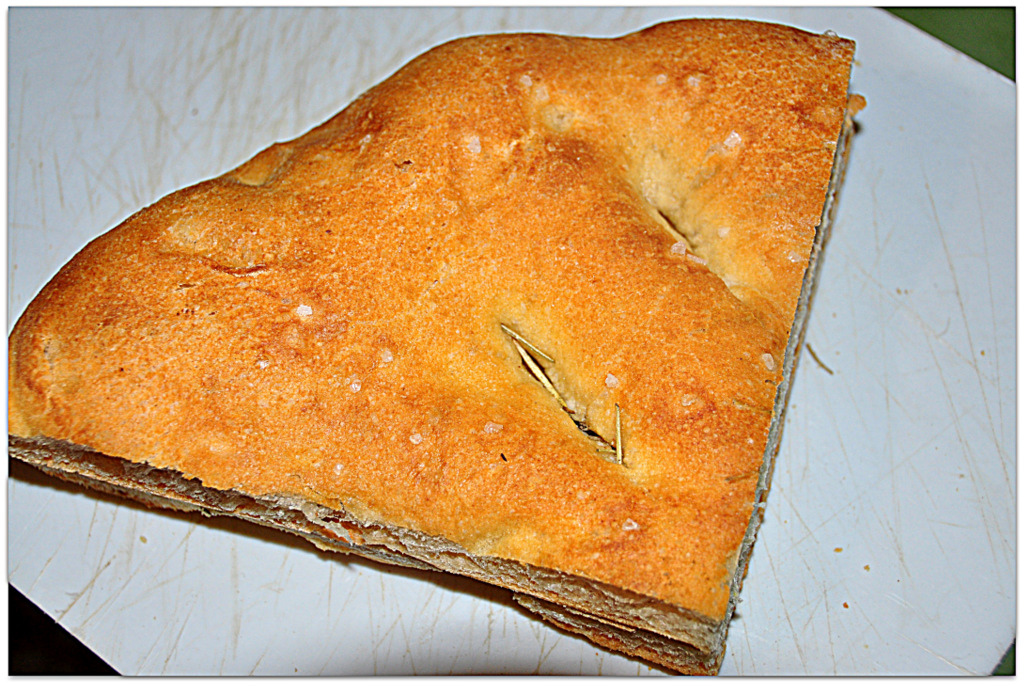slice of bread: (8, 20, 853, 668)
